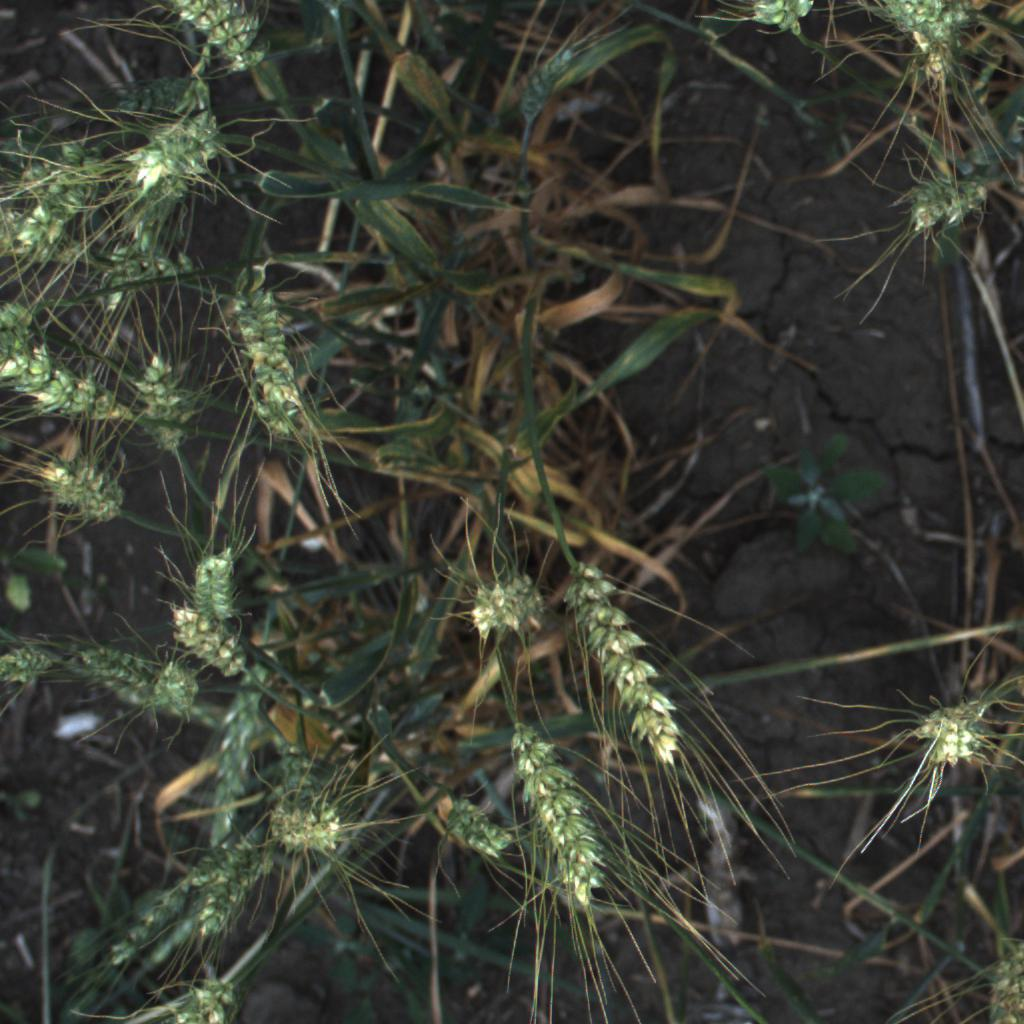0-0: (557, 550, 694, 781), (498, 707, 615, 921), (224, 272, 322, 440), (0, 333, 146, 432), (192, 822, 286, 947), (129, 95, 244, 197), (125, 334, 212, 465), (91, 871, 194, 976), (11, 148, 108, 258), (142, 0, 282, 74), (157, 589, 262, 684), (256, 790, 373, 865), (428, 785, 523, 877), (212, 667, 261, 841), (0, 201, 108, 279), (178, 531, 256, 636), (23, 447, 122, 515), (73, 629, 157, 699), (903, 173, 990, 232), (888, 0, 974, 56), (154, 978, 256, 1024), (697, 0, 817, 39), (94, 245, 193, 290), (274, 738, 325, 821), (520, 52, 579, 123), (1, 628, 62, 691), (141, 663, 211, 715), (489, 573, 543, 640), (913, 700, 990, 738), (934, 725, 997, 768), (465, 587, 517, 632)
